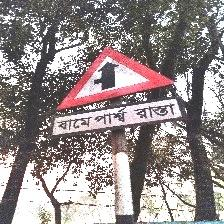Side-road-left: (52, 46, 184, 138)
